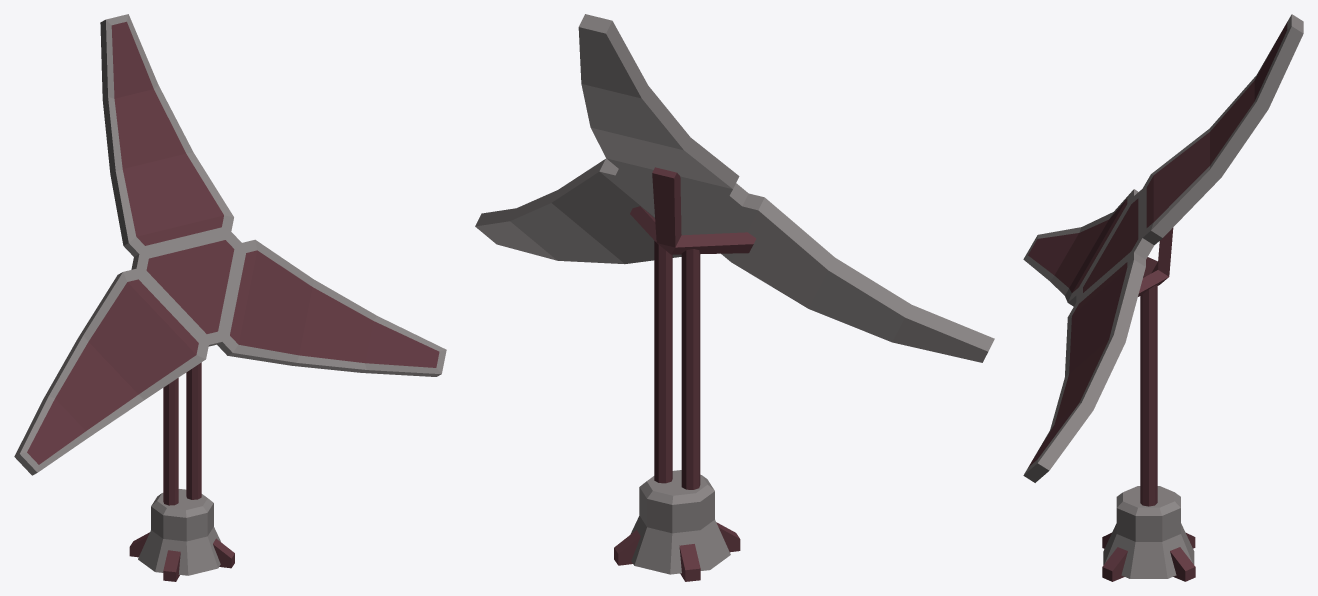
File: scifi-solar-panel-triangle.fbx
The picture shows the model from 3 angles, left to right: view 1: azimuth 30°, elevation 25°; view 2: azimuth 150°, elevation 25°; view 3: azimuth 270°, elevation 25°; orthographic projection. The views are drawn at different scales.
Visible parts, largest first — view 1: scifi-solar-panel-triangle; view 2: scifi-solar-panel-triangle; view 3: scifi-solar-panel-triangle.
Part boxes in pixels (box(x1,y1,x2,y2)): scifi-solar-panel-triangle: box(14, 14, 446, 581); scifi-solar-panel-triangle: box(475, 14, 994, 581); scifi-solar-panel-triangle: box(1023, 14, 1303, 581).
Bounding box in the file's own units: 3.73 × 4.14 × 1.94.
